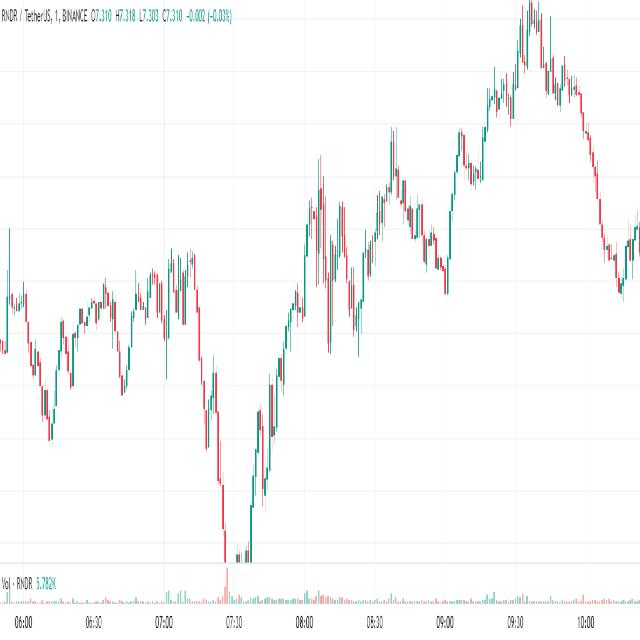Double-Bottom: (316, 160, 379, 359)
Head-Shoulders: (442, 0, 619, 290)
